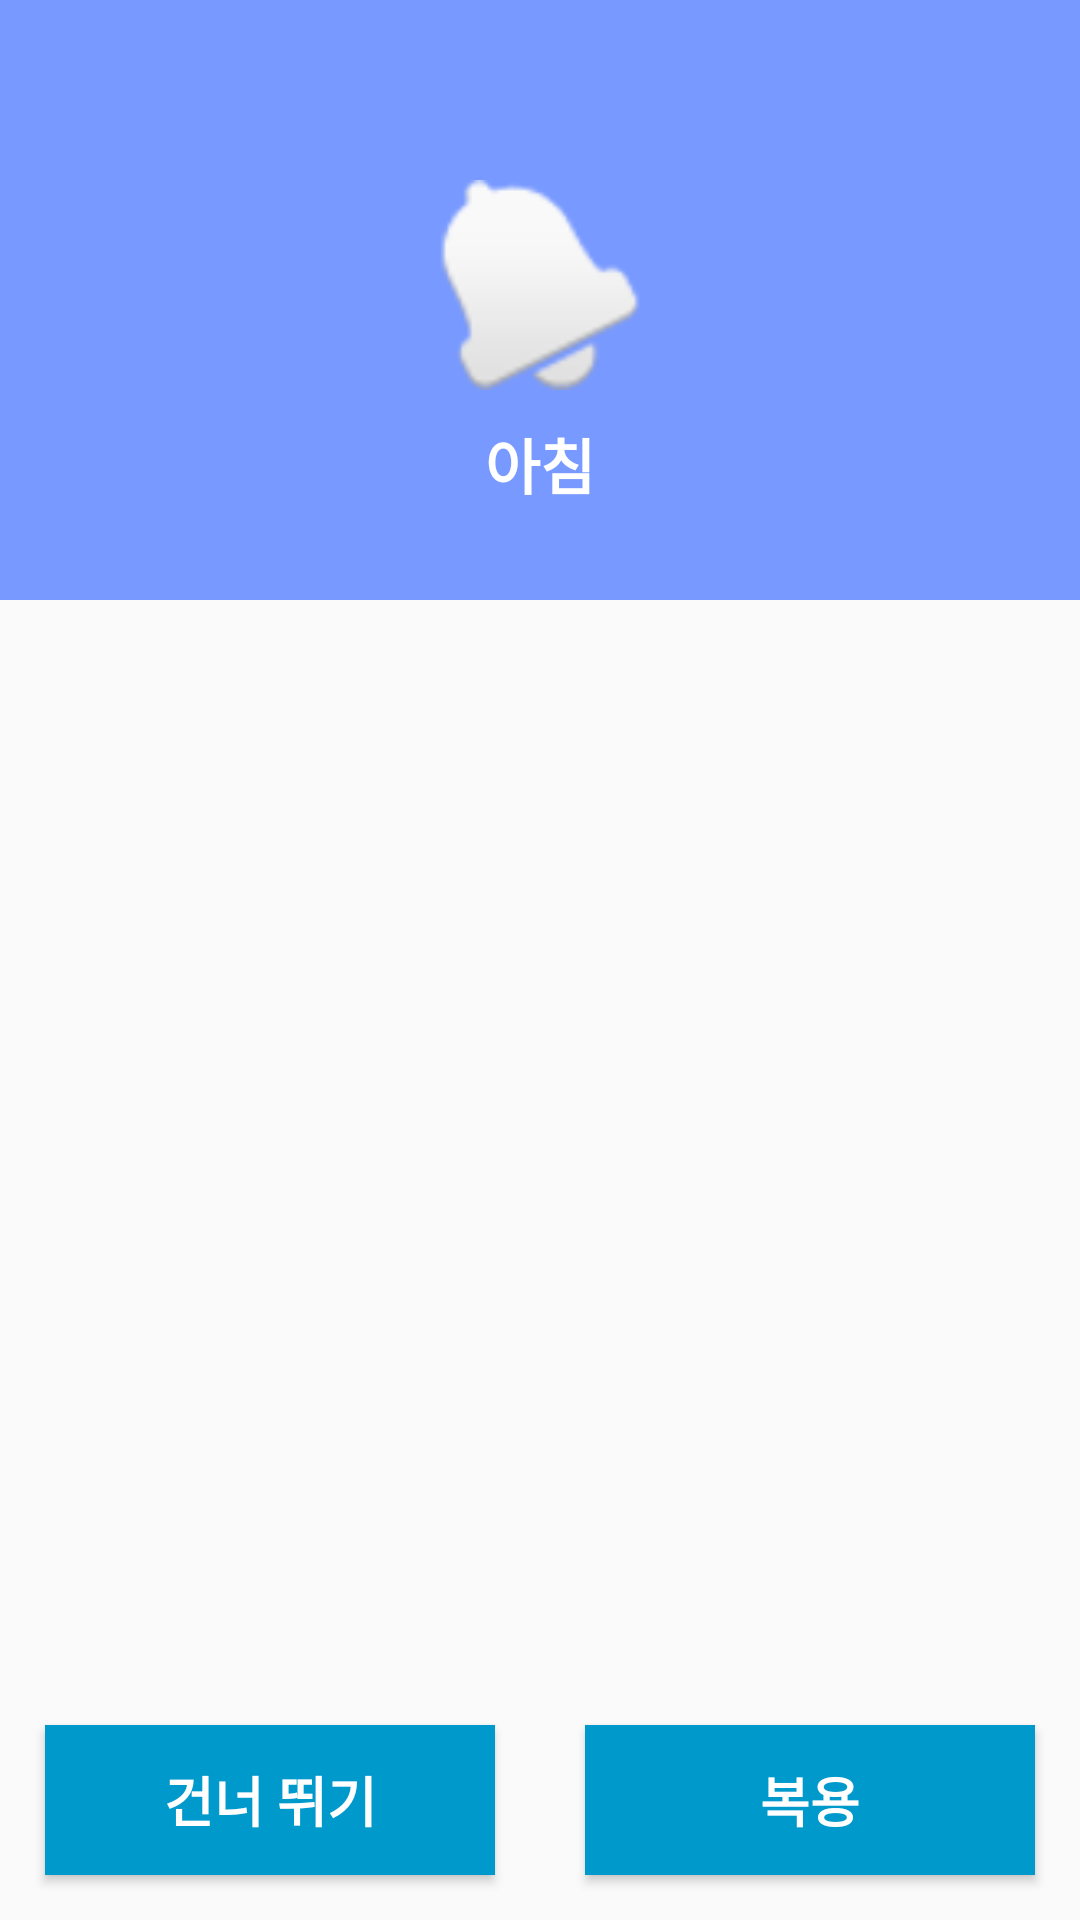

Screen size 1080px×1920px. Icon name, then its box in pixels as region(x1, y1, x2, y2):
popup reminder: region(442, 180, 638, 390)
